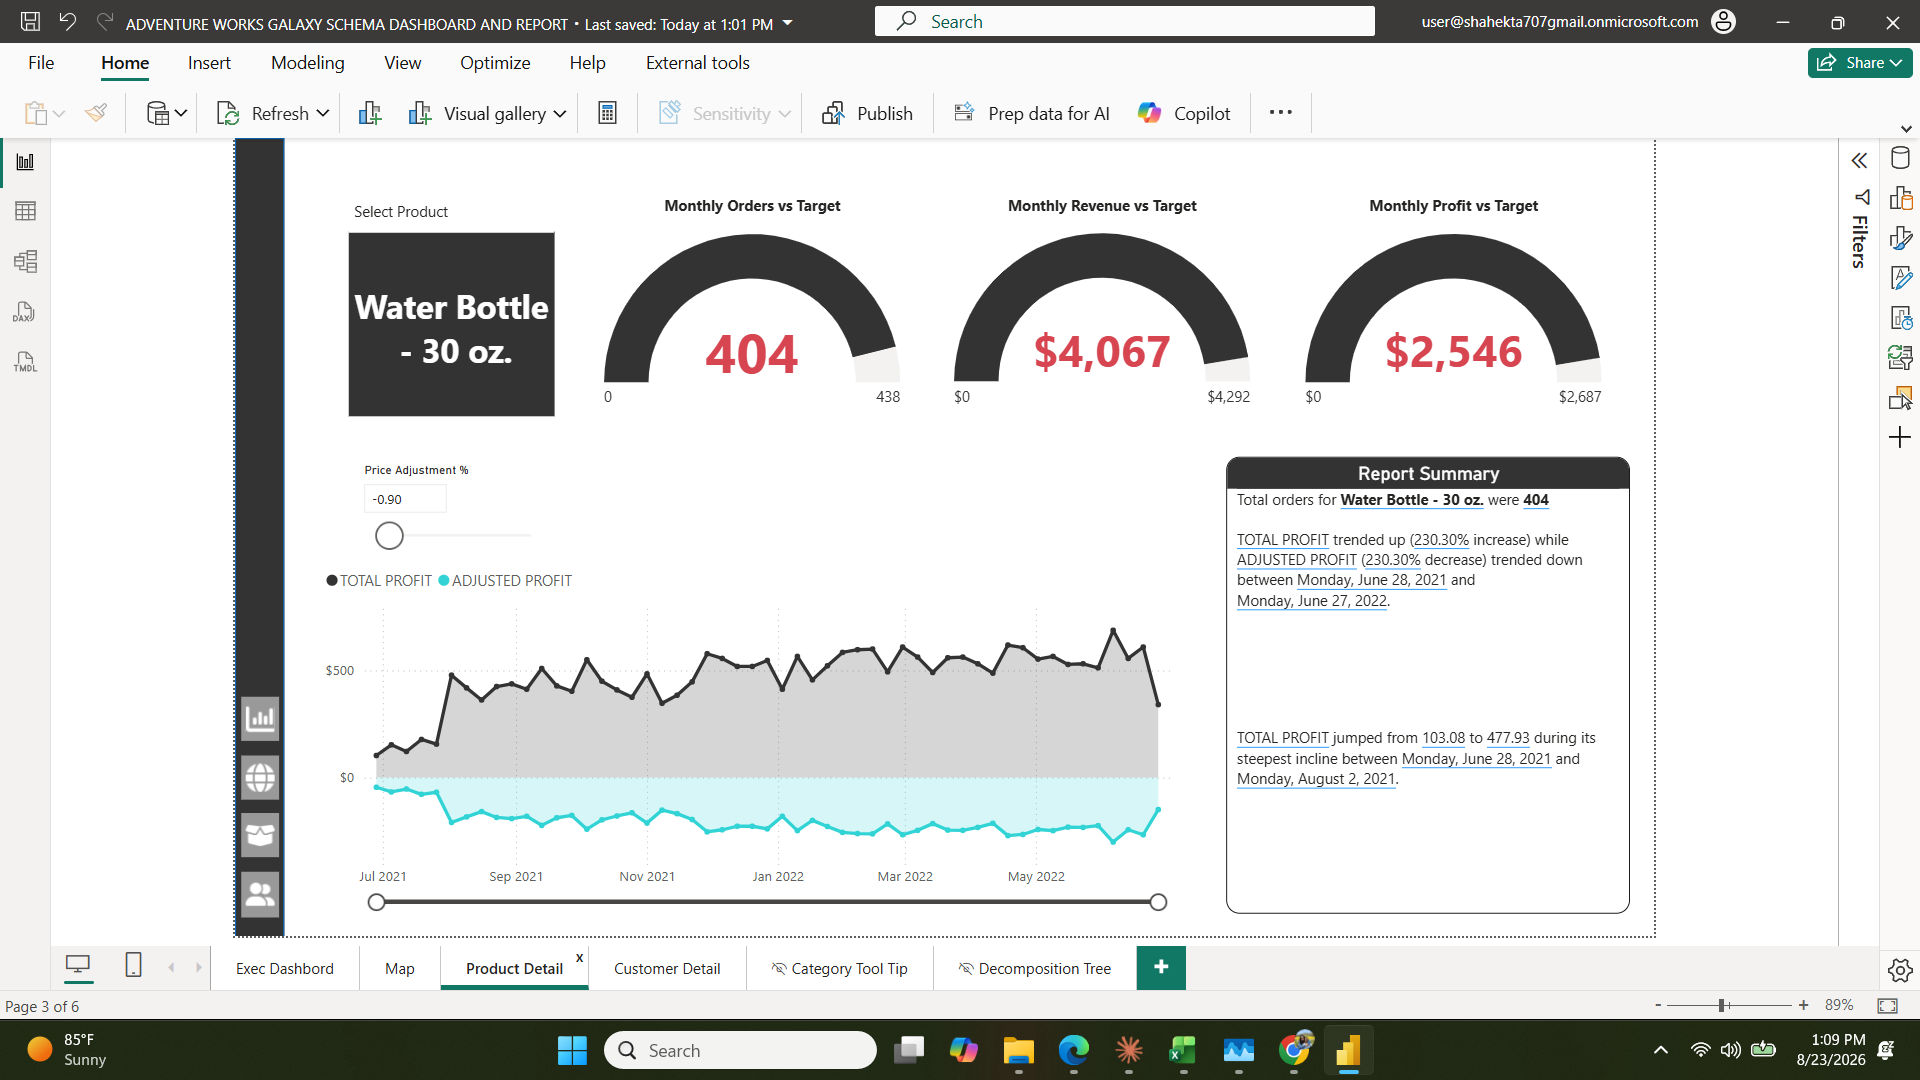

The page's visual inventory and layout, read from the dashboard file:
{"tool":"powerbi","page":{"name":"Product Detail","canvas":[1280,720],"ordinal":2},"visuals":[{"type":"shape","box":[0,0,44.5,720.8],"z":0},{"type":"gauge","title":"Monthly Orders vs Target","fields":{"MaxValue":["Measure Table.ORDER TARGET"],"Y":["Measure Table.Total Orders"]},"box":[327.9,52.1,277,213.5],"z":1000},{"type":"actionButton","box":[5.7,503.5,34.1,39.8],"z":1000,"group":"g1"},{"type":"gauge","title":"Monthly Revenue vs Target","fields":{"MaxValue":["Measure Table.Revenue target"],"Y":["Measure Table.TOTAL REVENUE"]},"box":[643.9,52.1,277,212.1],"z":2000},{"type":"actionButton","box":[5.7,608.7,34.1,39.8],"z":2000,"group":"g1"},{"type":"gauge","title":"Monthly Profit vs Target","fields":{"MaxValue":["Measure Table.PROFIT TARGET"],"Y":["Measure Table.TOTAL PROFIT"]},"box":[960,52.1,277.3,213.3],"z":3000},{"type":"actionButton","box":[5.7,556.1,34.1,39.8],"z":3000,"group":"g1"},{"type":"lineChart","title":"Profit Trending","fields":{"Category":["Calendar Lookup.Date Hierarchy.Start of Year","Calendar Lookup.Date Hierarchy.Start of Month","Calendar Lookup.Date Hierarchy.Start of Week","Calendar Lookup.Date Hierarchy.Date"],"Y":["Measure Table.TOTAL PROFIT","Measure Table.adjusted PROFIT"]},"box":[76.7,378.4,787.1,321.3],"z":4000},{"type":"actionButton","box":[5.7,661.4,34.1,41.2],"z":4000,"group":"g1"},{"type":"card","fields":{"Values":["Min(Product Lookup.ProductName)"]},"box":[103.1,85.1,185.8,166.6],"z":6000},{"type":"textbox","box":[103.1,51.5,184.6,33.6],"z":7000},{"type":"group","id":"g1","title":"Page Navigation Button","box":[5.7,503.5,34.1,199.1],"z":8000},{"type":"slicer","fields":{"Values":["Price Adjustment %.Price Adjustment %"]},"box":[103.5,287.3,185.6,91],"z":9000},{"type":"textbox","title":"Report Summary","box":[894.2,287.3,364.1,412.3],"z":11000}]}

Visuals, with their boxes on the page's 1280x720 design canvas (x1, y1, x2, y2). These are canvas units, not pixel positions in the 1920x1080 screenshot, which may show the page scaled, cropped or inside an application window:
shape: (left=0, top=0, right=44, bottom=721)
"Monthly Orders vs Target" gauge: (left=328, top=52, right=605, bottom=266)
actionButton: (left=6, top=504, right=40, bottom=543)
"Monthly Revenue vs Target" gauge: (left=644, top=52, right=921, bottom=264)
actionButton: (left=6, top=609, right=40, bottom=648)
"Monthly Profit vs Target" gauge: (left=960, top=52, right=1237, bottom=265)
actionButton: (left=6, top=556, right=40, bottom=596)
"Profit Trending" lineChart: (left=77, top=378, right=864, bottom=700)
actionButton: (left=6, top=661, right=40, bottom=703)
card - Min(Product Lookup.ProductName): (left=103, top=85, right=289, bottom=252)
textbox: (left=103, top=52, right=288, bottom=85)
"Page Navigation Button" group: (left=6, top=504, right=40, bottom=703)
slicer - Price Adjustment %.Price Adjustment %: (left=104, top=287, right=289, bottom=378)
"Report Summary" textbox: (left=894, top=287, right=1258, bottom=700)
